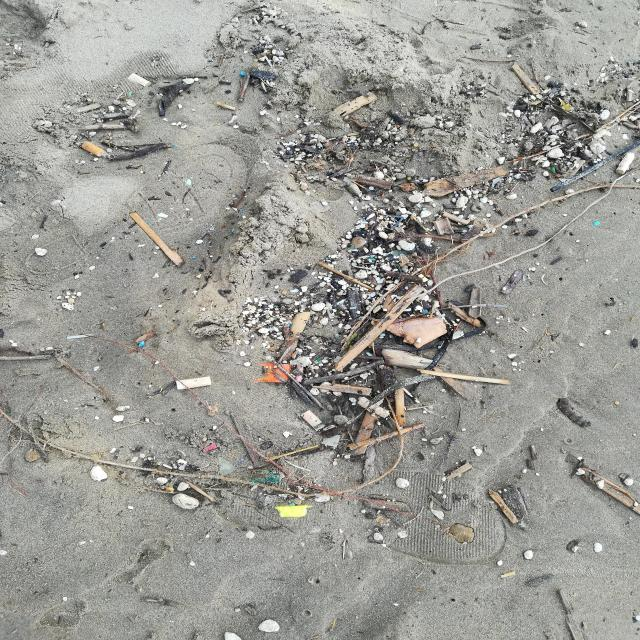litter: (80, 333, 411, 517), (319, 373, 437, 438), (550, 140, 640, 191), (8, 381, 47, 497), (410, 311, 454, 393), (437, 376, 461, 468), (449, 301, 486, 339), (557, 397, 591, 427), (374, 340, 446, 351), (252, 364, 291, 382), (274, 505, 313, 518), (249, 470, 280, 486), (81, 141, 105, 157), (128, 73, 152, 88), (413, 216, 432, 234), (390, 248, 415, 260), (347, 88, 370, 98), (290, 357, 313, 367), (390, 215, 404, 230), (549, 87, 563, 99), (295, 365, 304, 383), (559, 97, 570, 110), (235, 454, 247, 465), (203, 443, 217, 452), (393, 263, 402, 272), (138, 341, 145, 347), (594, 221, 600, 226), (128, 91, 133, 97), (379, 333, 386, 337), (429, 511, 434, 516), (289, 503, 297, 506), (316, 358, 322, 362), (240, 72, 245, 76), (551, 167, 555, 172), (286, 323, 291, 327), (423, 309, 428, 313), (239, 210, 243, 214), (231, 229, 235, 232), (174, 144, 177, 147), (628, 60, 632, 62), (467, 225, 470, 227)
